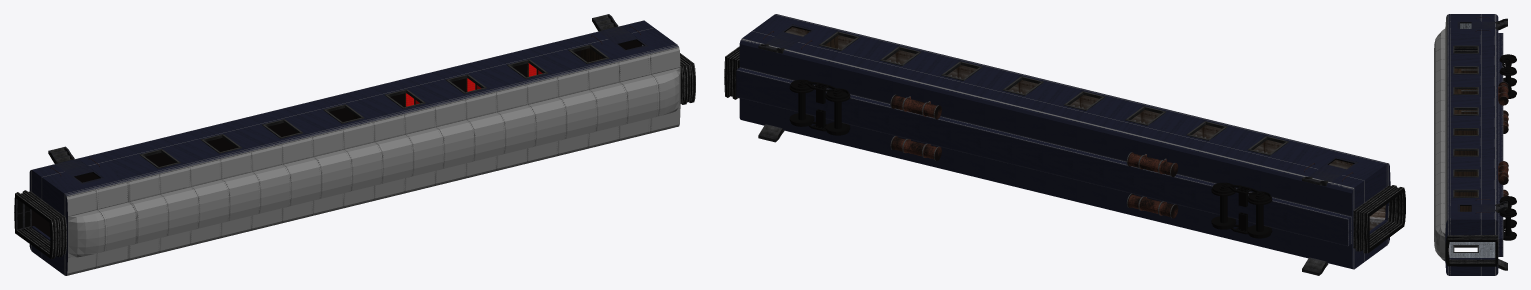
Rendered from trolley tram 2.obj.
3 views of the same model, side by side, from view 1: azimuth 30°, elevation 25°; view 2: azimuth 150°, elevation 25°; view 3: azimuth 270°, elevation 25° (orthographic). The views are drawn at different scales.
Parts seen in each view (by area): view 1: Object.5, Object.3, Object.7, Object.1, Object.6; view 2: Object.3, Object.7, Object.2, Object.4; view 3: Object.3, Object.7, Object.5, Object.2, Object.6, Object.4.
Boxes of the visible parts, x1,y1,x2,y2 form: Object.5: (66, 47, 680, 275); Object.3: (15, 14, 671, 275); Object.7: (14, 20, 695, 258); Object.1: (31, 40, 641, 237); Object.6: (353, 48, 603, 119); Object.3: (724, 18, 1403, 275); Object.7: (725, 14, 1405, 269); Object.2: (789, 79, 1272, 238); Object.4: (785, 27, 1385, 230); Object.3: (1445, 14, 1507, 275); Object.7: (1445, 14, 1508, 266); Object.5: (1434, 15, 1447, 261); Object.2: (1499, 54, 1516, 240); Object.6: (1454, 68, 1477, 211); Object.4: (1448, 23, 1495, 257).
Size of the model in its own units: 1344000 by 186717 by 217889.
6 materials, 4 textured.
